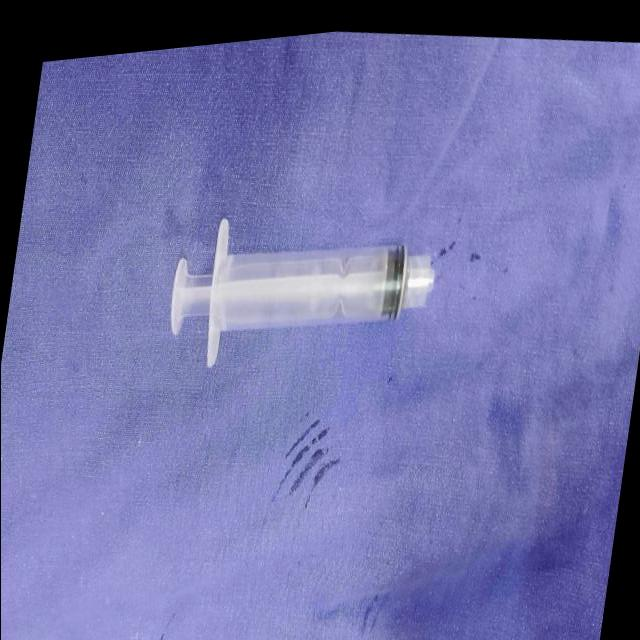Infectious: (214, 242, 435, 331)
Sharps: (169, 217, 437, 367)
